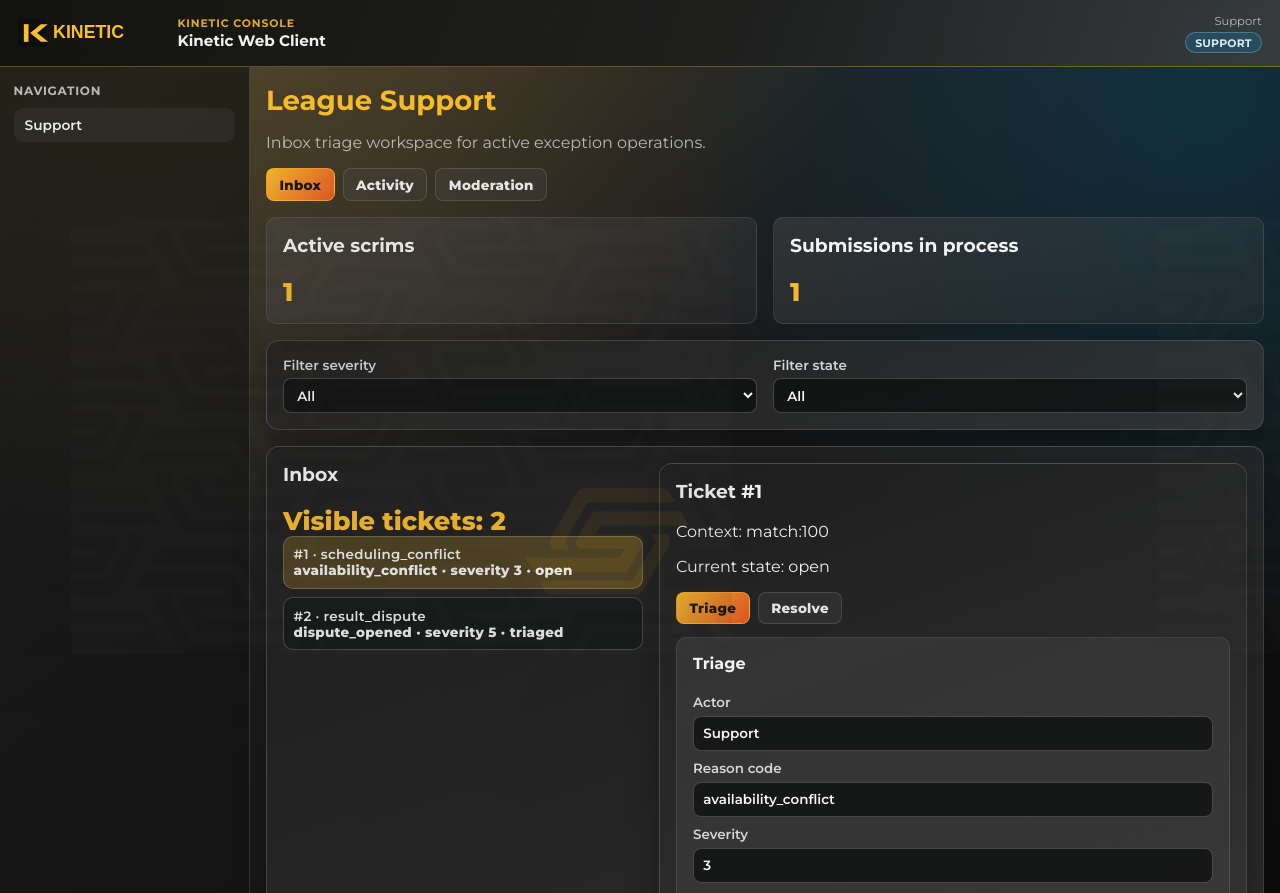
Test: SupportDashboardPage › renders and filters operator inbox
Expected: the text with test id "operator-inbox-count" reads "Visible tickets: 2", [283,505,506,536]
Expected: the text with test id "active-scrims-count" reads "1", [283,276,293,306]
Select "5" in the dropdown labelled "Filter severity" at (520, 396), box [283,378,757,413]
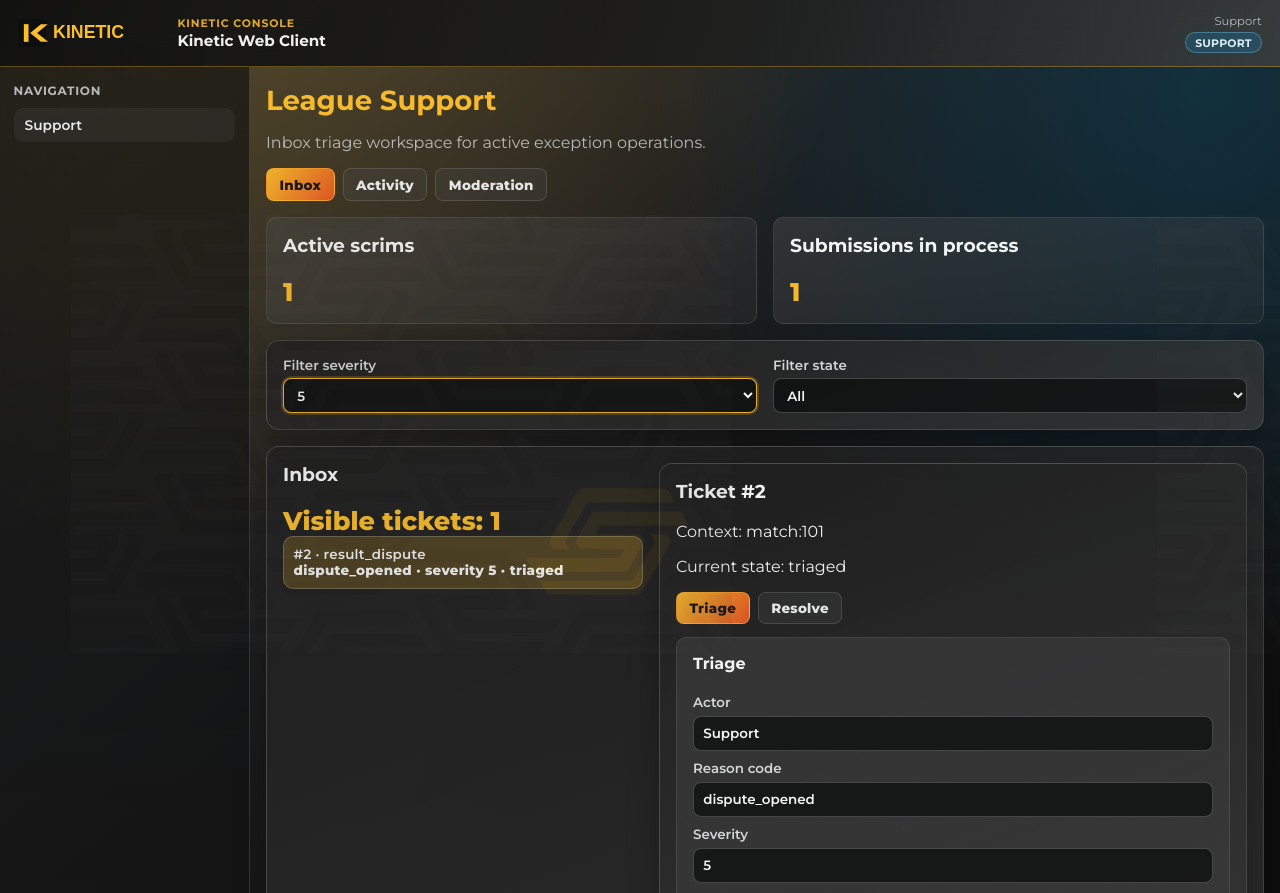
Now the text with test id "operator-inbox-count" reads "Visible tickets: 1", box [283,505,501,536]
Now the heading "Ticket #2" is shown, box [676,480,766,503]
